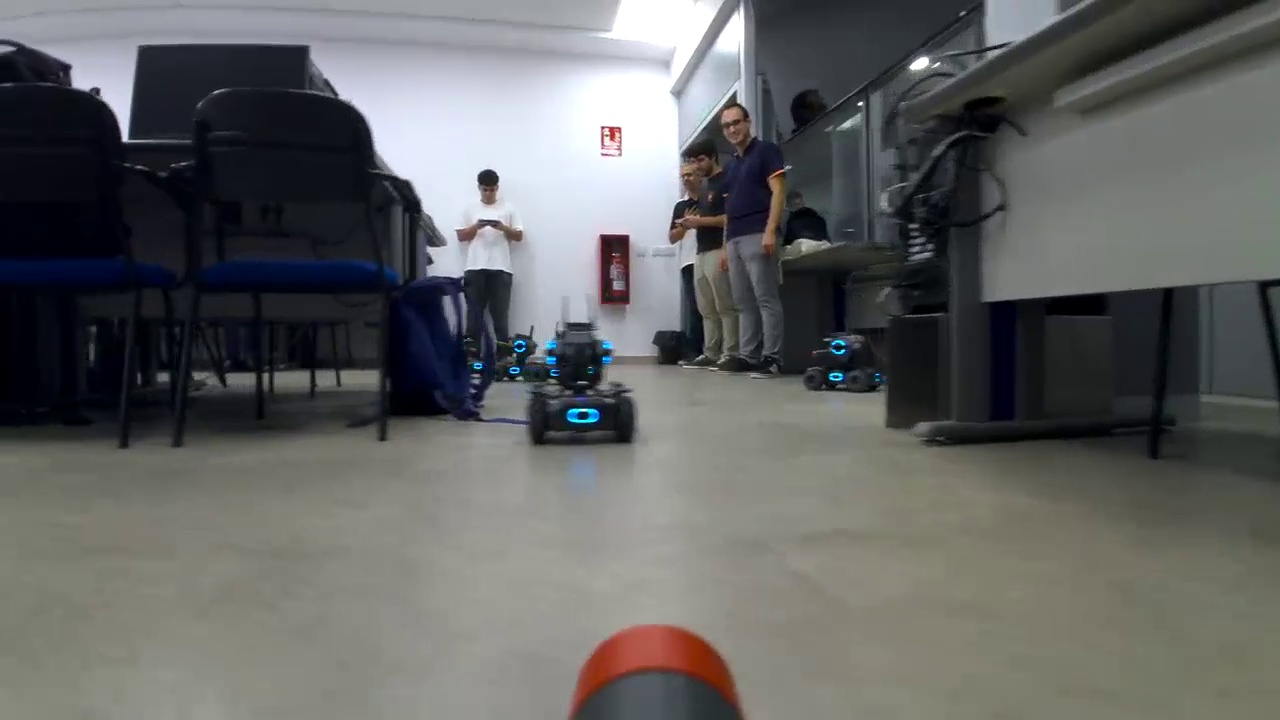robot: (524, 319, 642, 452), (801, 328, 885, 394), (483, 329, 548, 385), (453, 337, 491, 383)
